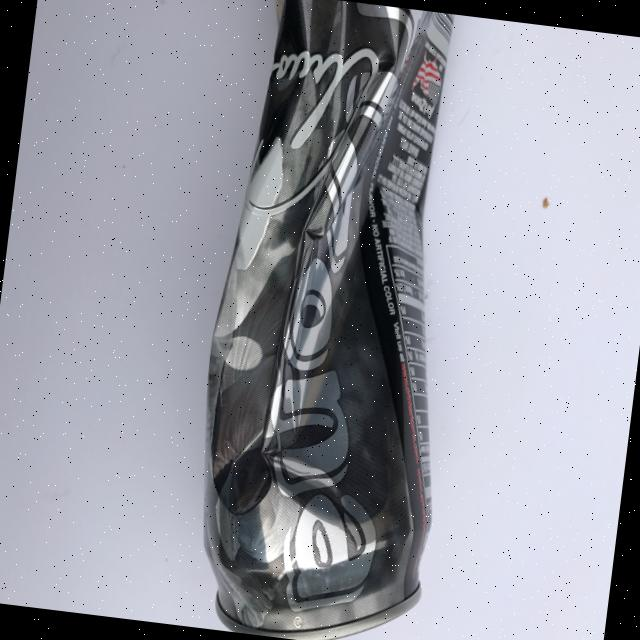metal: (175, 0, 492, 640)
